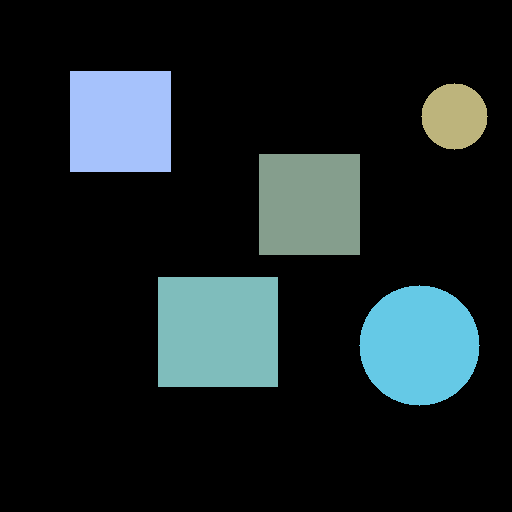circle: (359, 285, 479, 405), (421, 83, 487, 149)
square: (158, 277, 277, 386), (259, 154, 359, 254), (70, 71, 170, 171)
